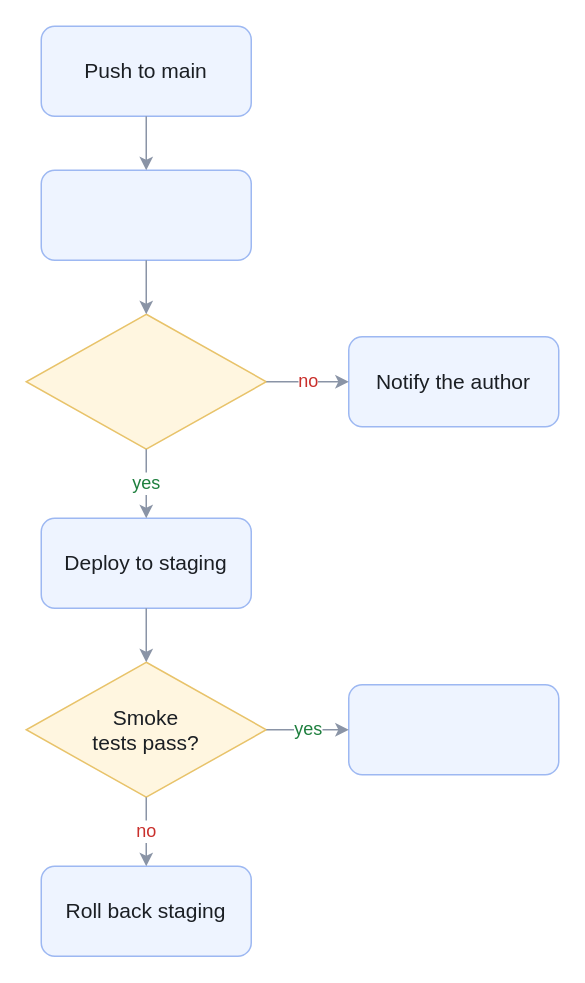
Some shapes in this 585 by 983 pixel diagram are drawn without their labels. The box of each missing label's shape, as (x1, y1, x2, y2) in pixels:
Build and run tests: (40, 169, 251, 260)
Deploy to production: (347, 683, 559, 775)
Tests pass?: (25, 313, 266, 449)
